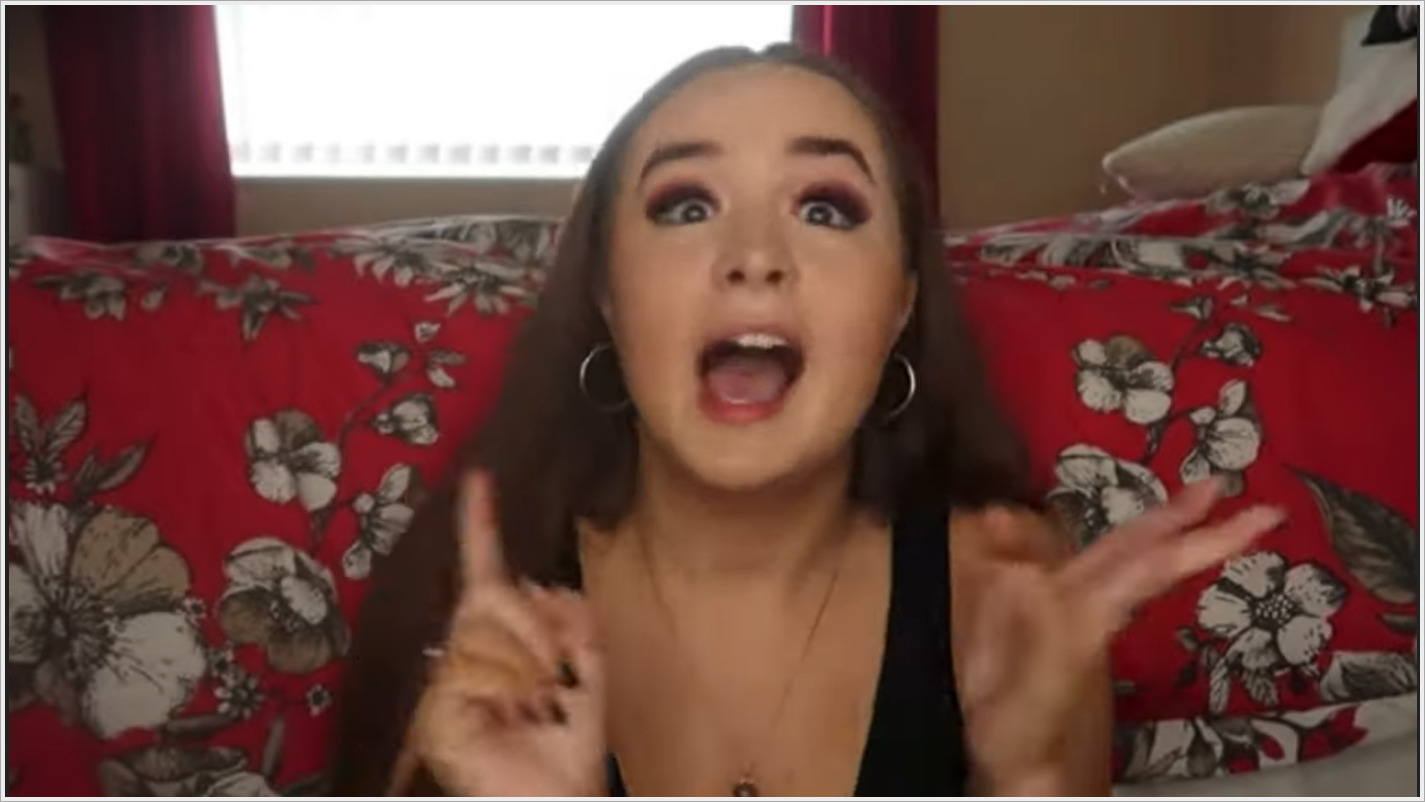hand: (958, 434, 1292, 802), (406, 464, 611, 797)
